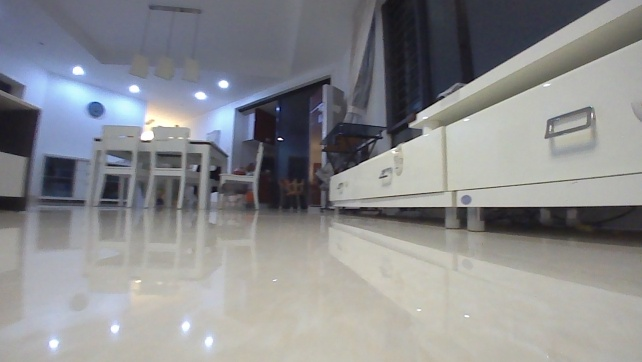TV_stand: (327, 0, 641, 231)
dining_table: (80, 120, 265, 209)
wire: (585, 206, 637, 227)
